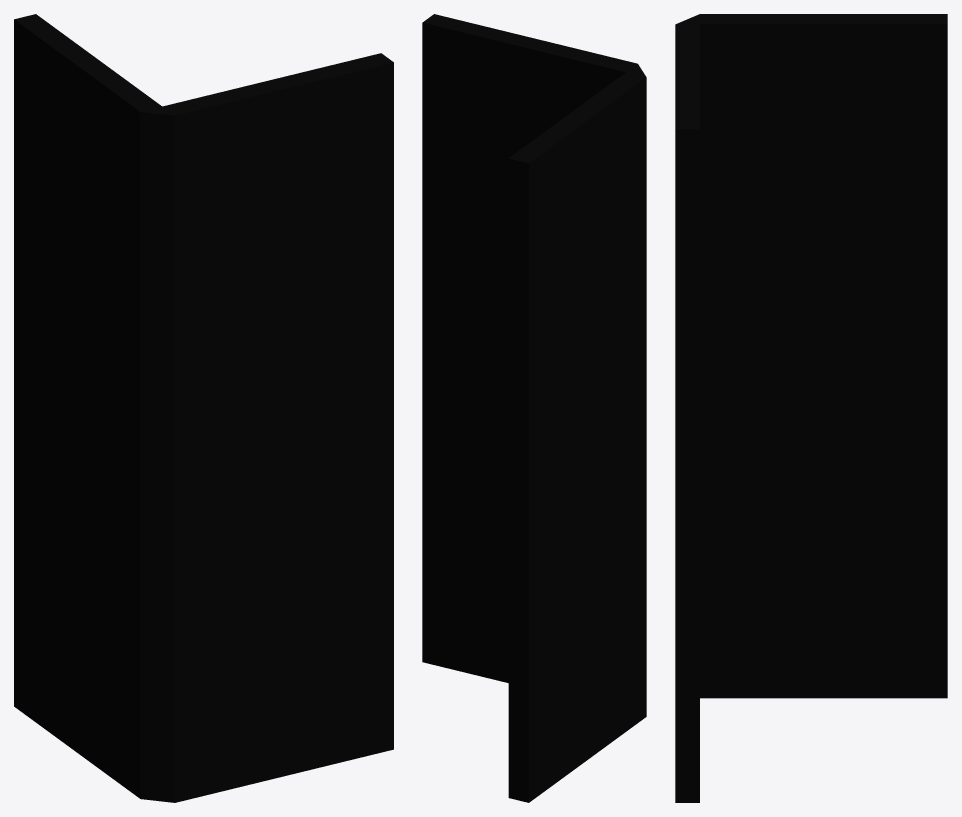
File: Ship Interior.fbx_Wall_Corner_0.fbx
3 views of the same model, side by side, from view 1: azimuth 30°, elevation 25°; view 2: azimuth 150°, elevation 25°; view 3: azimuth 270°, elevation 25° (orthographic). The views are drawn at different scales.
Parts seen in each view (by area): view 1: Wall Corner 0; view 2: Wall Corner 0; view 3: Wall Corner 0.
Boxes of the visible parts, x1=… form: Wall Corner 0: x1=14, y1=14, x2=393, y2=802; Wall Corner 0: x1=422, y1=14, x2=646, y2=802; Wall Corner 0: x1=675, y1=14, x2=947, y2=802.
Bounding box in the file's own units: 110 × 110 × 300.
